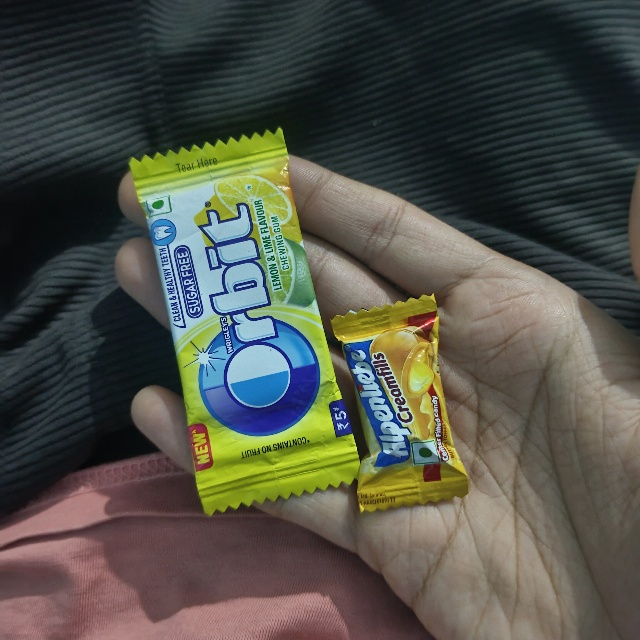Alpenlibe Creamfills: (327, 316, 437, 524)
Orbit: (126, 158, 285, 529)
